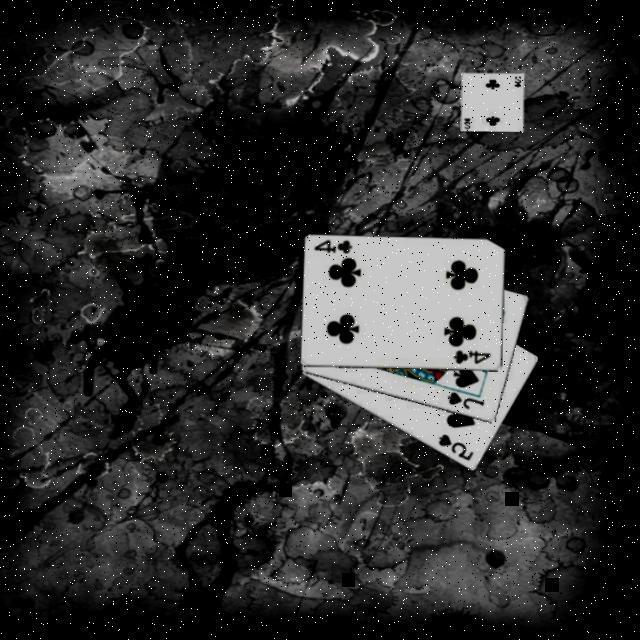4C: (313, 235, 357, 255), (454, 346, 496, 366)
5S: (438, 430, 479, 462)
JS: (448, 388, 490, 411)
